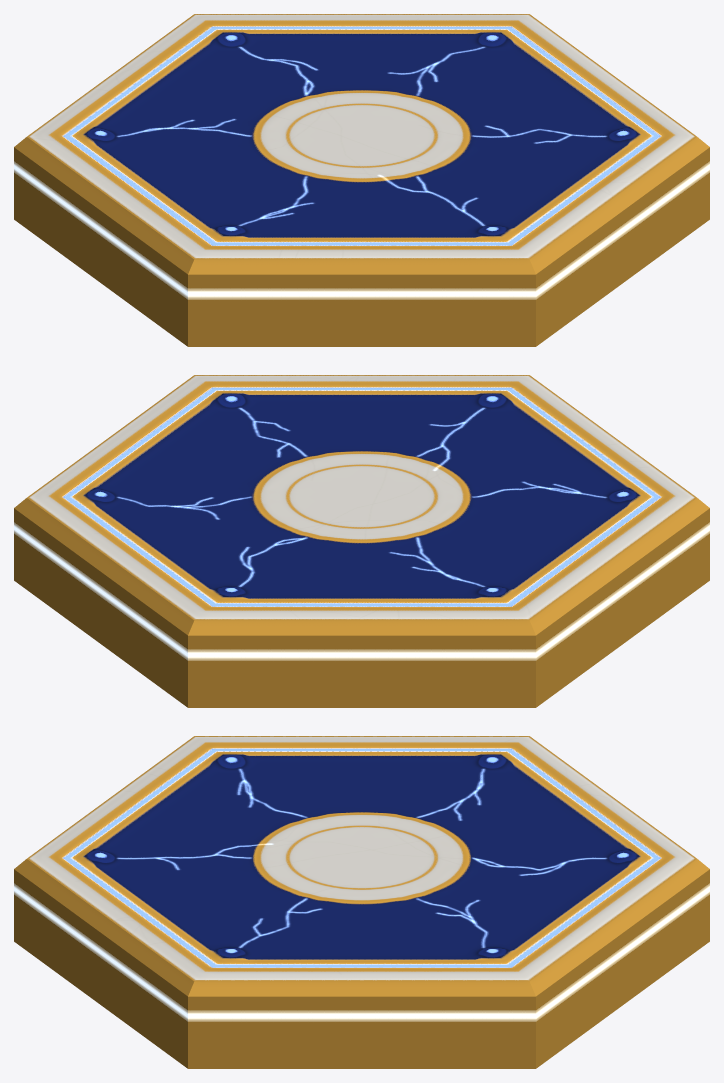
Rendered from hex_celestial.glb.
The picture shows the model from 3 angles, top to bottom: view 1: azimuth 30°, elevation 25°; view 2: azimuth 150°, elevation 25°; view 3: azimuth 270°, elevation 25°; orthographic projection.
Parts seen in each view (by area): view 1: hex_celestial; view 2: hex_celestial; view 3: hex_celestial.
Boxes of the visible parts, bbox=[...] form: hex_celestial: bbox=[14, 14, 709, 346]; hex_celestial: bbox=[14, 375, 709, 707]; hex_celestial: bbox=[14, 736, 709, 1068].
Size of the model in its own units: 2 by 0.317 by 2.31.
Materials: 1 (1 with a texture image).
